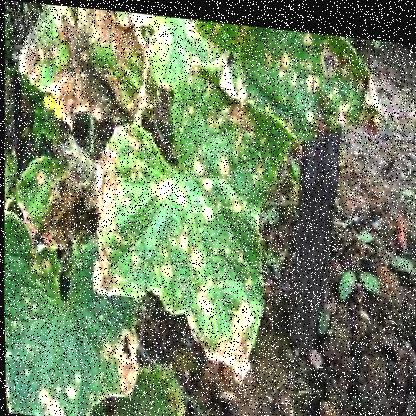Anthracnose: (81, 142, 129, 291), (193, 284, 257, 379), (91, 314, 138, 401), (20, 374, 70, 416)
